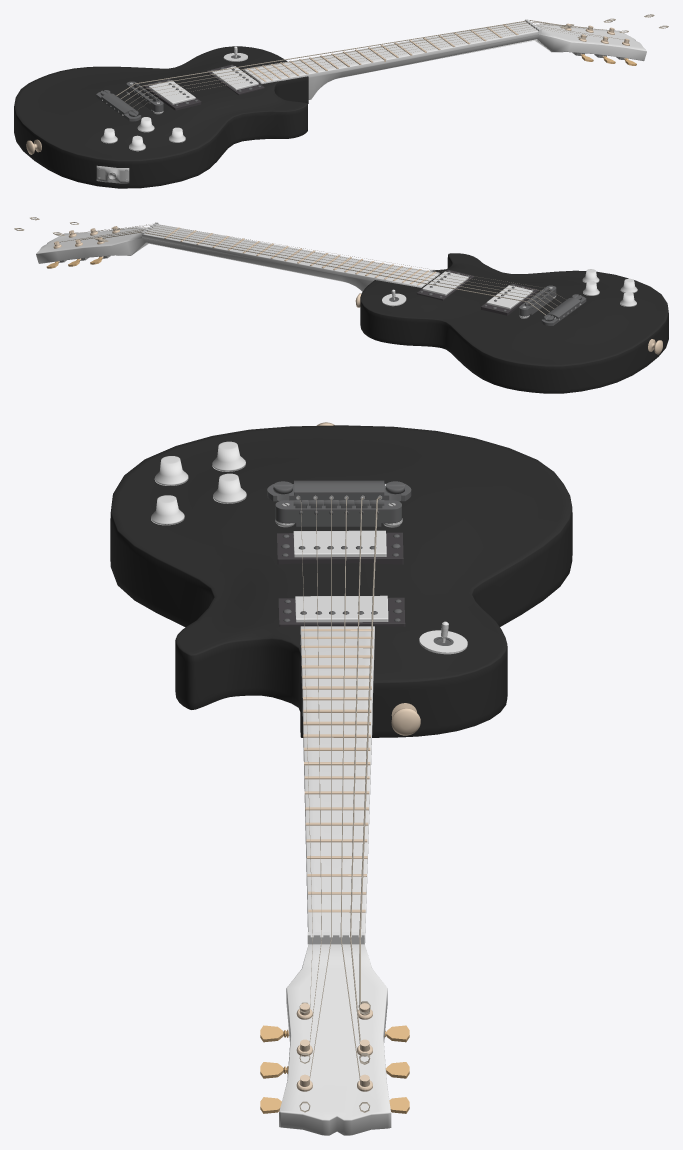
The picture shows the model from 3 angles, top to bottom: view 1: azimuth 30°, elevation 25°; view 2: azimuth 150°, elevation 25°; view 3: azimuth 270°, elevation 25°; orthographic projection. The views are drawn at different scales.
Visible parts, largest first — view 1: Body, Handle, String6, Handle lines, boxprt, boxprt.001, plug, Bridge, Saddle, Pickup1, Pickup1.001; view 2: Body, Handle, String6, Handle lines, boxprt, boxprt.001, Bridge, Saddle, Pickup1, Pickup1.001; view 3: Body, Handle, Handle lines, String6, Saddle, boxprt.001, boxprt, Bridge, Pickup1, Pickup1.001, Switch.
Boxes of the visible parts, x1,y1,x2,y2 form: Body: (14,46,308,188); Handle: (243,21,646,99); String6: (116,20,624,109); Handle lines: (247,24,518,81); boxprt: (149,80,195,104); boxprt.001: (212,66,258,90); plug: (96,165,129,183); Bridge: (96,92,141,121); Saddle: (126,81,163,112); Pickup1: (143,79,201,110); Pickup1.001: (206,64,264,94); Body: (360,253,668,393); Handle: (36,224,439,291); String6: (59,224,562,315); Handle lines: (164,227,436,285); boxprt: (486,285,532,309); boxprt.001: (422,271,468,295); Bridge: (541,296,586,325); Saddle: (519,285,556,316); Pickup1: (481,283,538,315); Pickup1.001: (416,269,474,300); Body: (110,425,572,737); Handle: (279,626,391,1135); Handle lines: (301,629,373,912); String6: (298,497,380,1079); Saddle: (275,500,401,526); boxprt.001: (295,595,388,622); boxprt: (293,530,386,557); Bridge: (267,480,411,501); Pickup1: (277,532,403,564); Pickup1.001: (278,597,405,626); Switch: (419,621,467,654).
Size of the model in its own units: 26.34 by 3.15 by 8.28.
